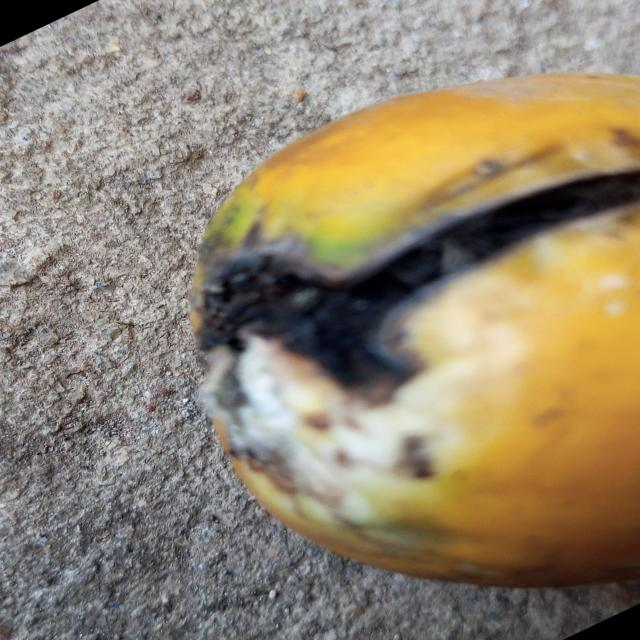damaged: (190, 73, 640, 592)
